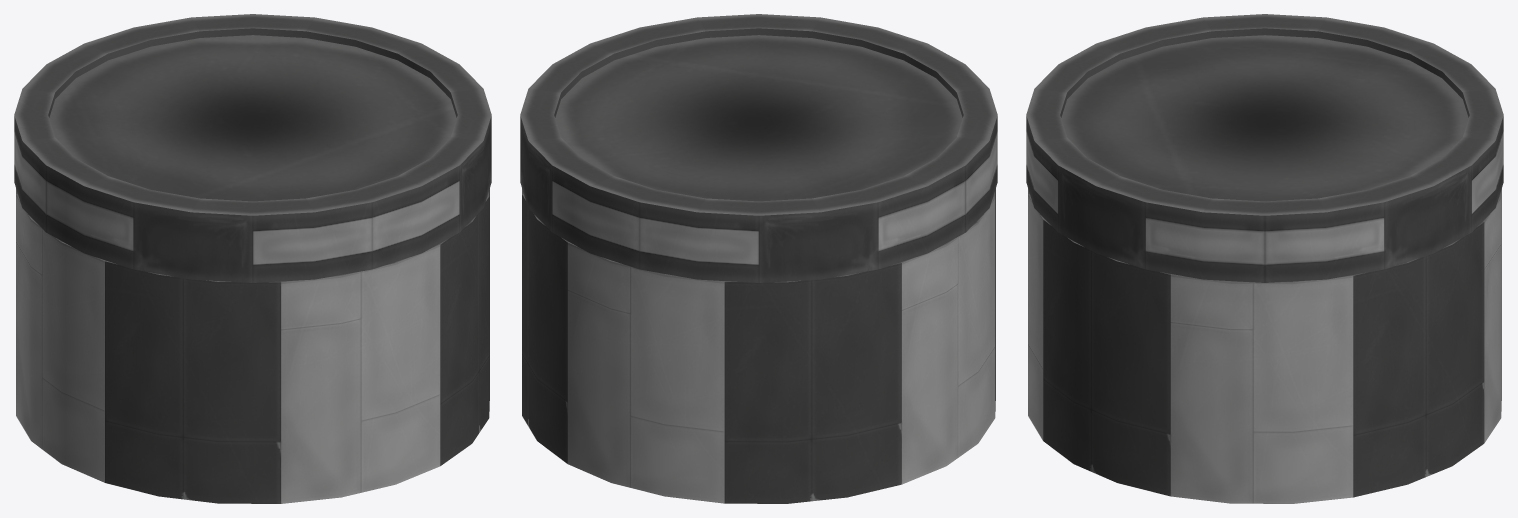
File: LR91_Mod2.dae
The picture shows the model from 3 angles, left to right: view 1: azimuth 30°, elevation 25°; view 2: azimuth 150°, elevation 25°; view 3: azimuth 270°, elevation 25°; orthographic projection.
Parts seen in each view (by area): view 1: LR_91_Titan2_group11, fairing; view 2: LR_91_Titan2_group11, fairing; view 3: LR_91_Titan2_group11, fairing.
Boxes of the visible parts, <box> form: LR_91_Titan2_group11: <box>14,14,491,282</box>; fairing: <box>16,188,489,503</box>; LR_91_Titan2_group11: <box>520,14,997,282</box>; fairing: <box>522,188,995,503</box>; LR_91_Titan2_group11: <box>1026,14,1503,282</box>; fairing: <box>1028,188,1501,503</box>.
Bounding box in the file's own units: 1.88 × 1.25 × 1.88.
